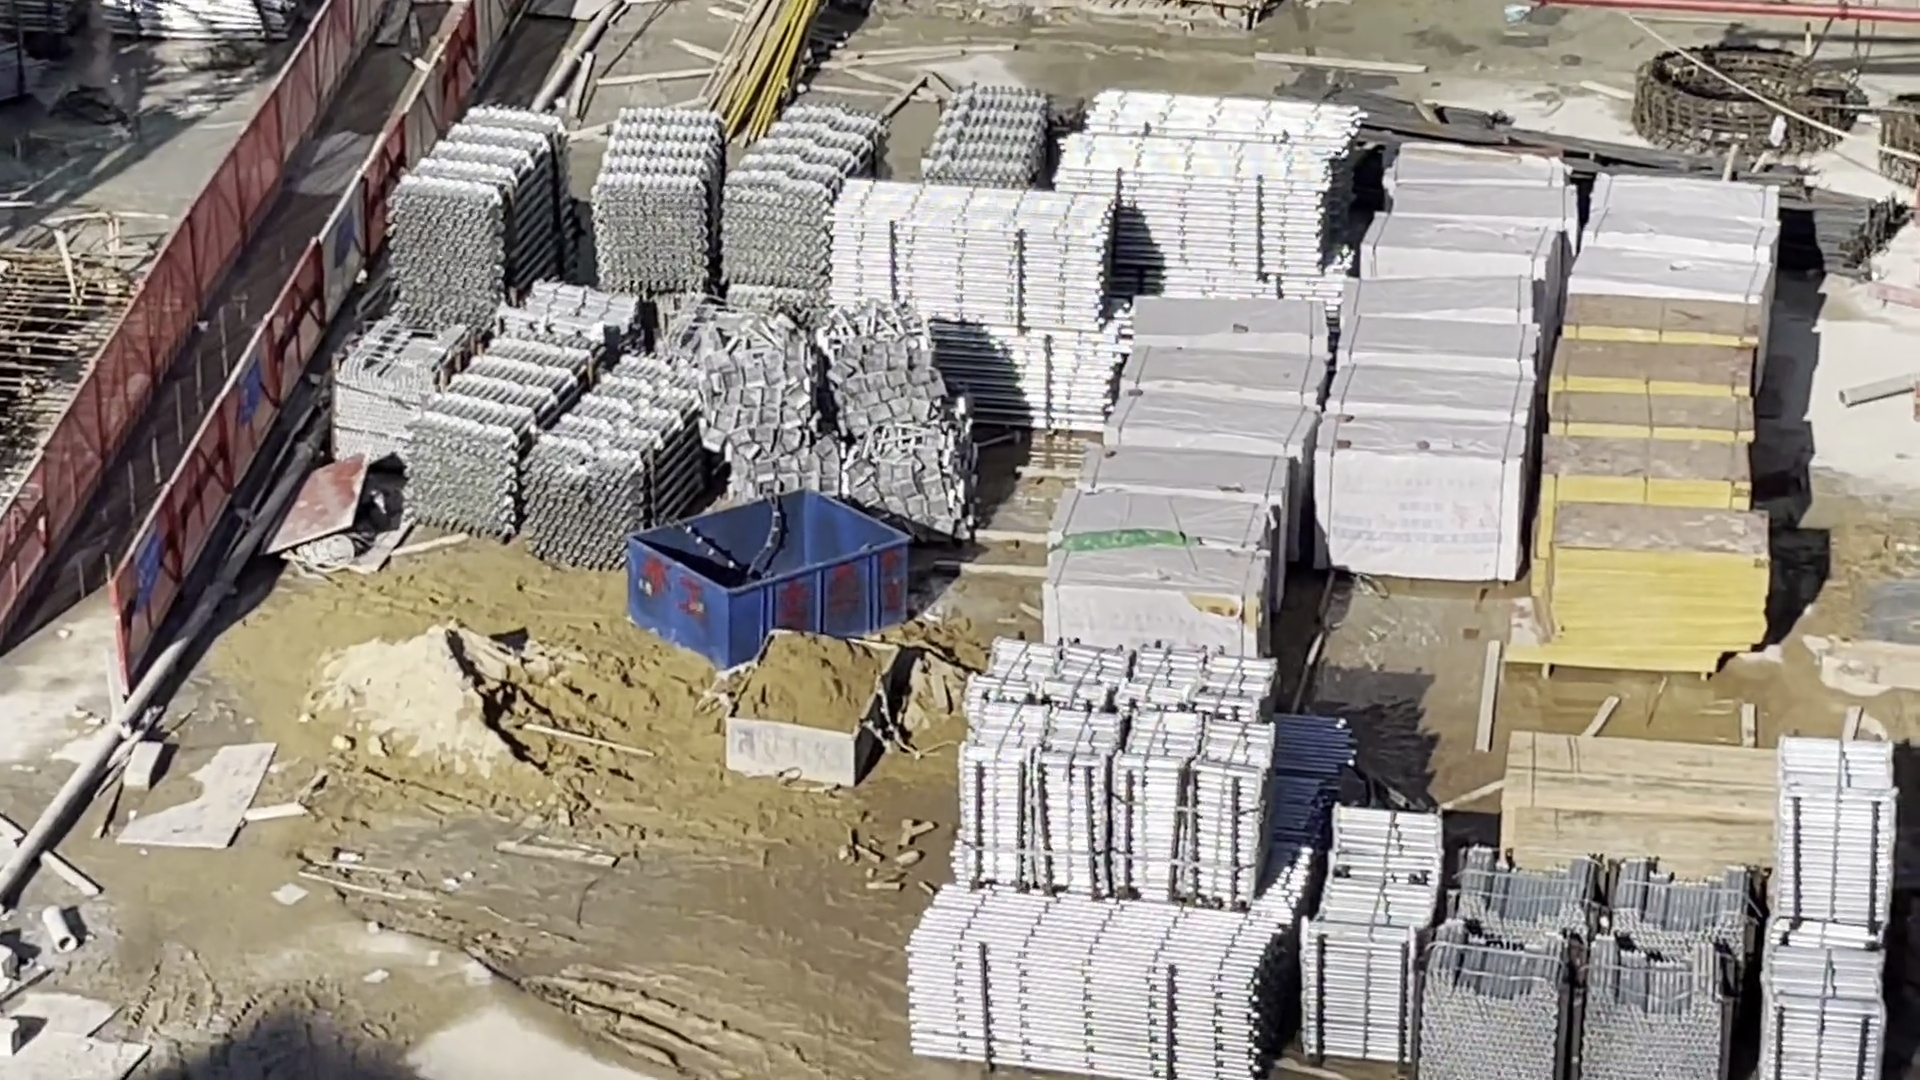board: (1540, 287, 1764, 680), (1505, 735, 1774, 870)
fence: (3, 3, 483, 644)
hopper: (624, 491, 909, 670), (727, 626, 899, 791)
rebar: (1390, 98, 1896, 272)
scaffold: (959, 641, 1275, 899), (905, 881, 1282, 1080), (1419, 857, 1749, 1080), (828, 185, 1109, 434), (411, 345, 705, 562), (597, 103, 889, 301), (1062, 91, 1356, 266), (1771, 735, 1892, 1080), (388, 109, 566, 316), (1313, 803, 1427, 1054), (928, 80, 1040, 191), (107, 1, 289, 46)
slogan: (235, 353, 262, 425), (132, 524, 156, 600)
